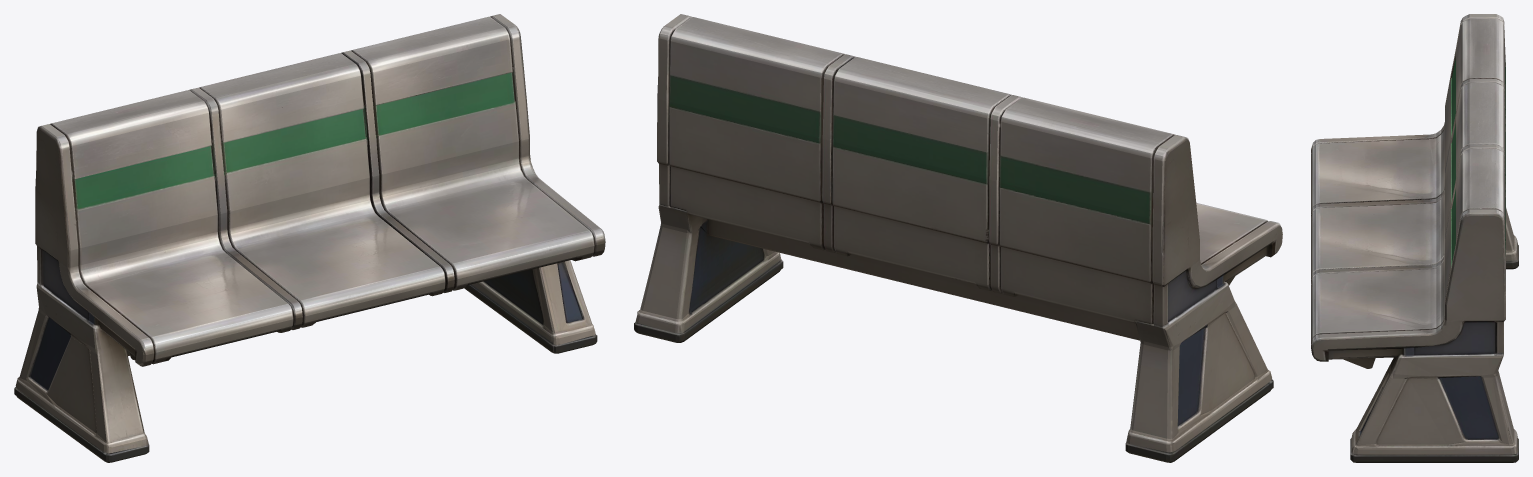
The model's file is decor_2.fbx.
3 renders of one model, left to right at view 1: azimuth 30°, elevation 25°; view 2: azimuth 150°, elevation 25°; view 3: azimuth 270°, elevation 25°, orthographic. The views are drawn at different scales.
Visible parts, largest first — view 1: decor_2; view 2: decor_2; view 3: decor_2.
Boxes of the visible parts, x1,y1,x2,y2 form: decor_2: (14,14,605,462); decor_2: (634,14,1282,462); decor_2: (1311,14,1518,462).
Bounding box in the file's own units: 1.7 × 0.9082 × 0.7019.
1 material, 1 textured.
